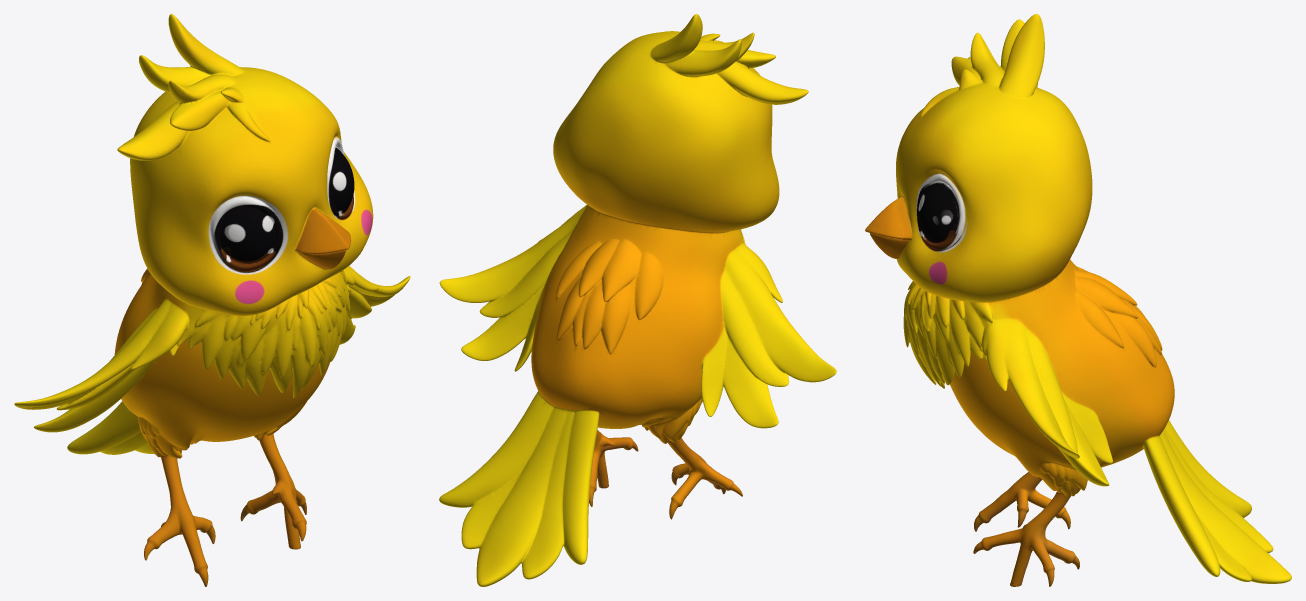
File: sun_bird.glb
3 renders of one model, left to right at view 1: azimuth 30°, elevation 25°; view 2: azimuth 150°, elevation 25°; view 3: azimuth 270°, elevation 25°, orthographic. The views are drawn at different scales.
Bounding box in the file's own units: 1.49 × 1.9 × 1.41.
Materials: 1 (1 with a texture image).
